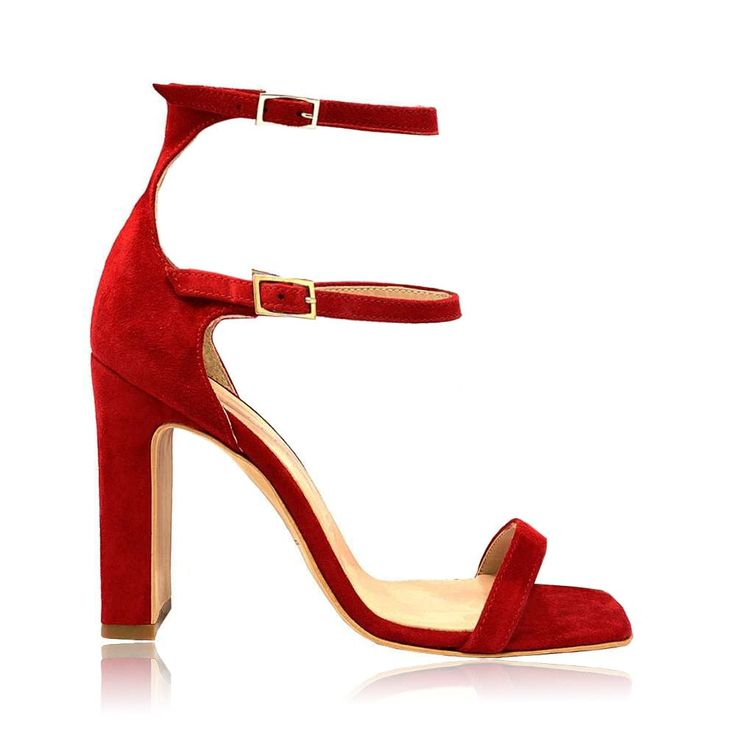gamuza: (89, 82, 632, 654)
